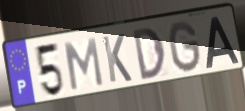5: (31, 41, 65, 99)
A: (204, 15, 241, 70)
D: (130, 25, 167, 82)
G: (167, 19, 204, 74)
K: (101, 32, 134, 85)
M: (63, 36, 106, 93)
